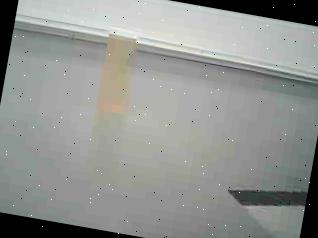Bottle A: (88, 21, 149, 128)
